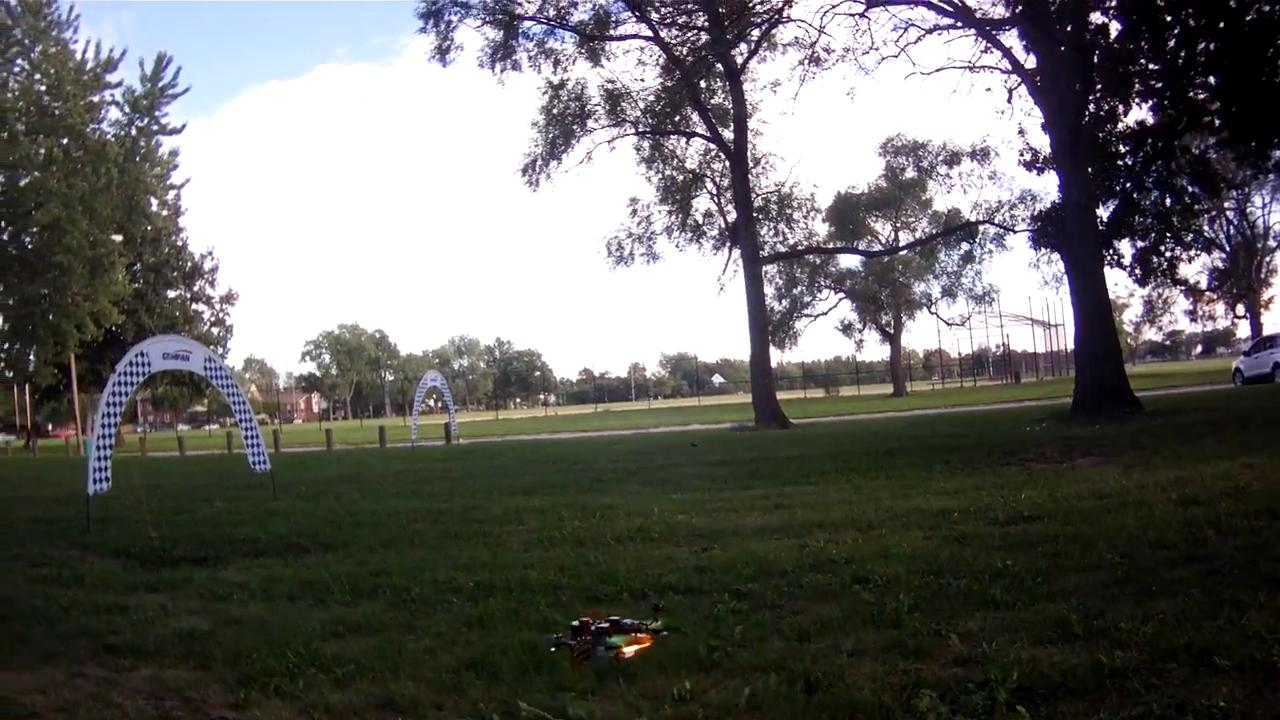gate: (86, 333, 274, 497), (406, 363, 461, 448)
